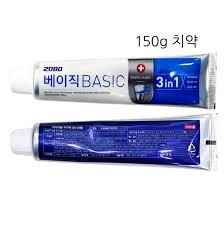toothpaste: (7, 54, 218, 115), (9, 114, 220, 170)
